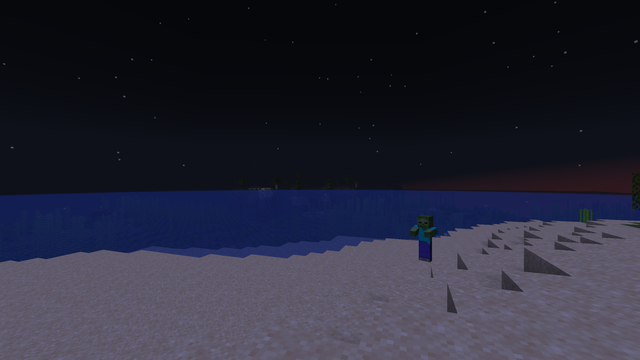zombies: (418, 215, 432, 262)
